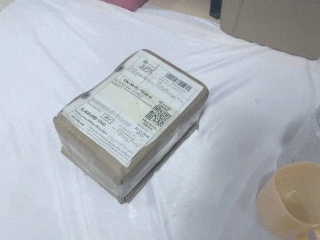box: (54, 48, 208, 205), (219, 1, 319, 61)
cup: (254, 160, 320, 240)
